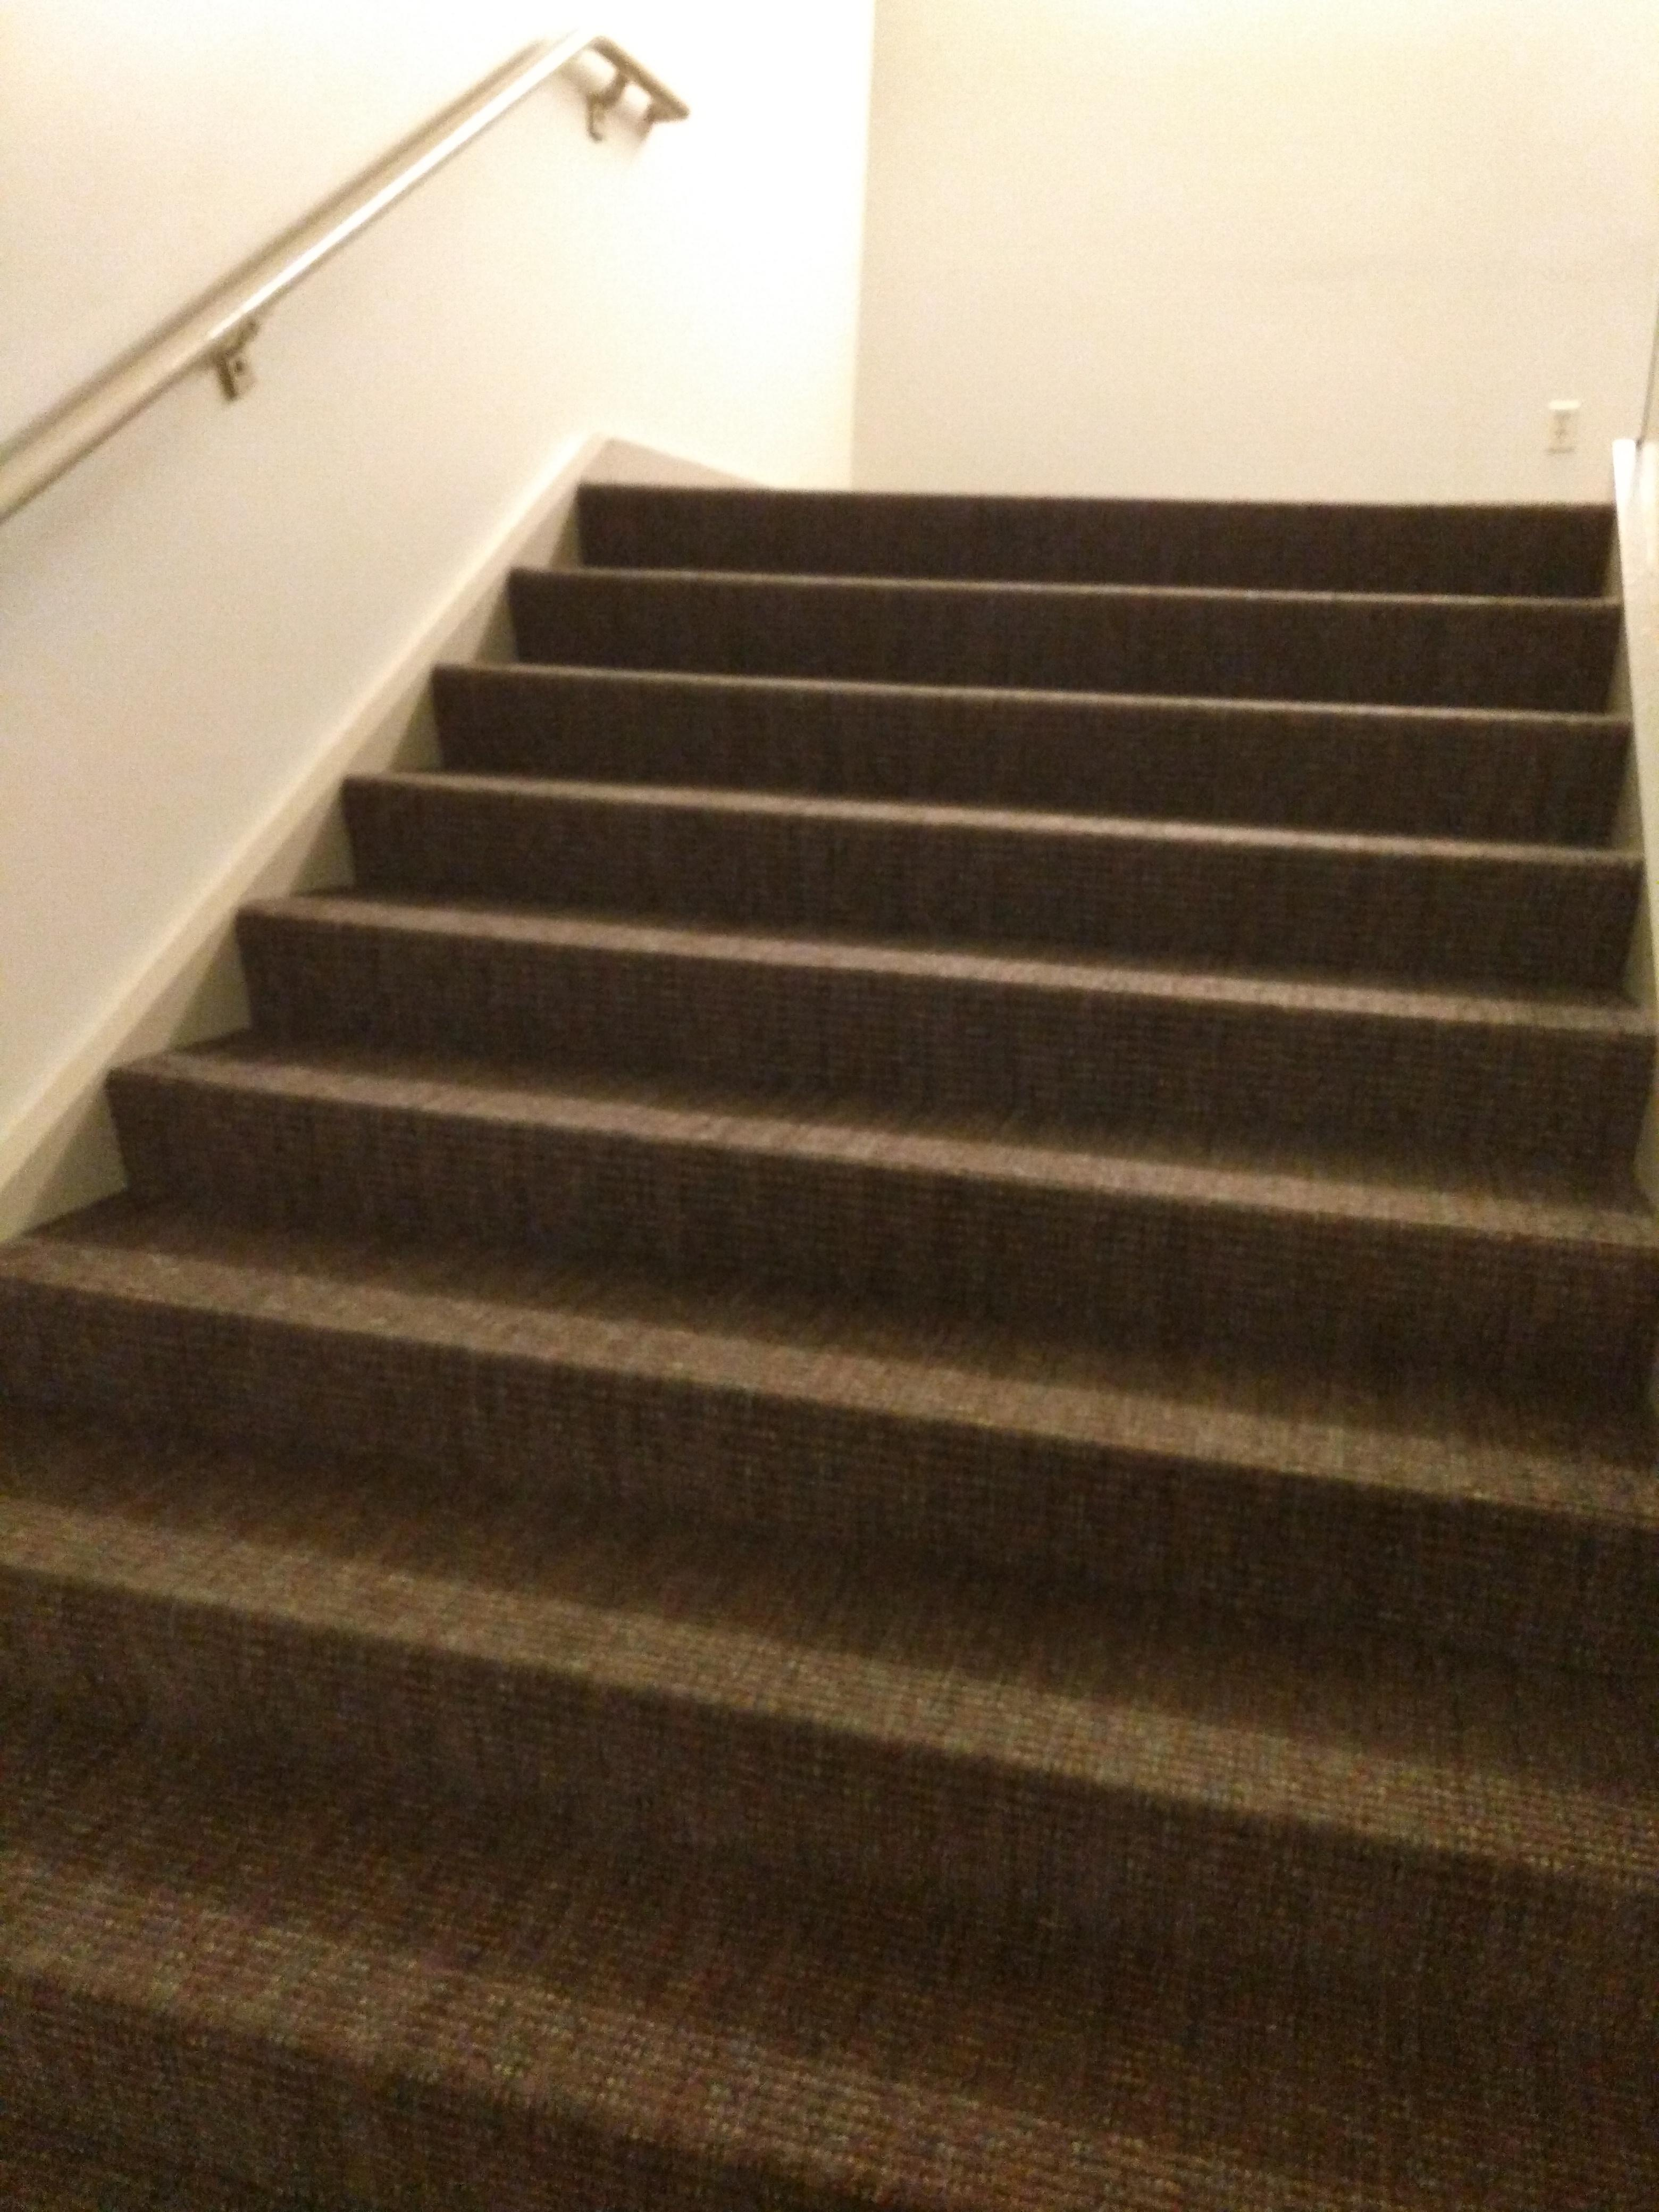stairs_up: (31, 449, 1647, 1933)
